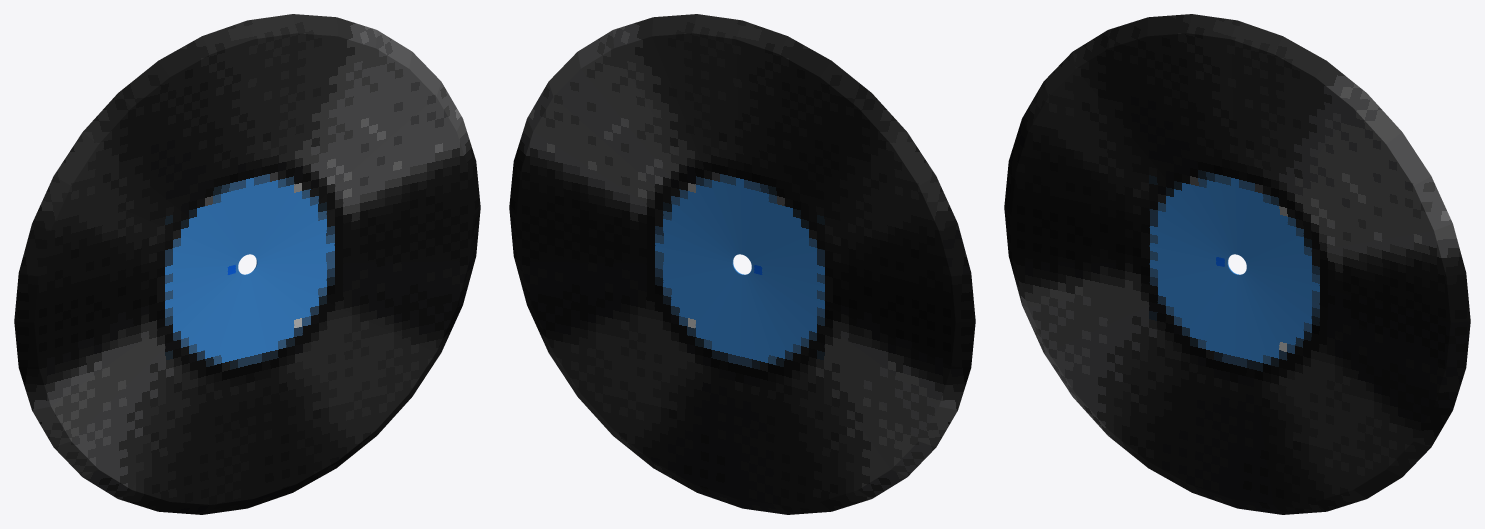
Rendered from Record_Blue.glb.
3 views of the same model, side by side, from view 1: azimuth 30°, elevation 25°; view 2: azimuth 150°, elevation 25°; view 3: azimuth 330°, elevation 25° (orthographic).
Visible parts, largest first — view 1: Cylinder.006; view 2: Cylinder.006; view 3: Cylinder.006.
Part boxes in pixels (box(x1,y1,x2,y2)): Cylinder.006: box(14, 14, 480, 514); Cylinder.006: box(509, 14, 975, 514); Cylinder.006: box(1004, 14, 1470, 514).
Size of the model in its own units: 2.12 by 2.12 by 0.1009.
1 material, 1 textured.
